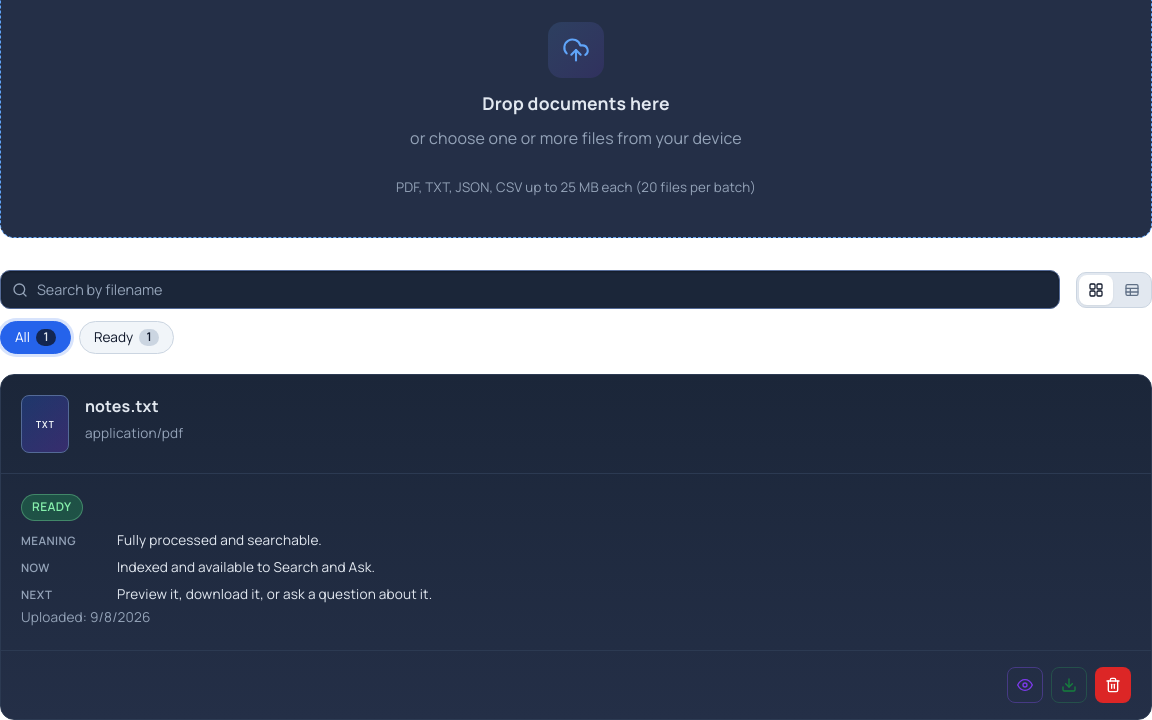
Test: DocumentsPage preview › opens the preview modal with the extracted text
This screenshot has width=1152, height=720.
(page scrolled)
What coordinates should you click on to do the following:
click the button named "Preview document"
I would click on:
 (1025, 685)
Its box is top-left (1007, 667), bottom-right (1043, 703).
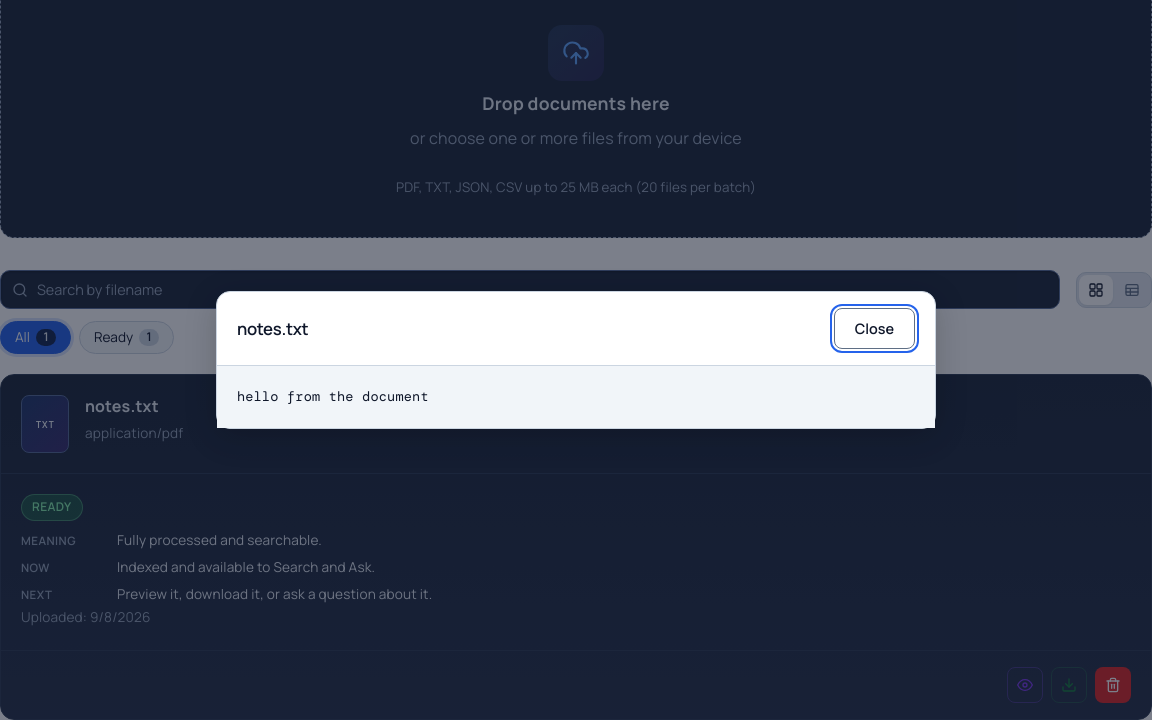
Expected: the dialog is shown, top-left (216, 291), bottom-right (936, 429)
Expected: the text "hello from the document" is shown, top-left (217, 366), bottom-right (935, 428)
